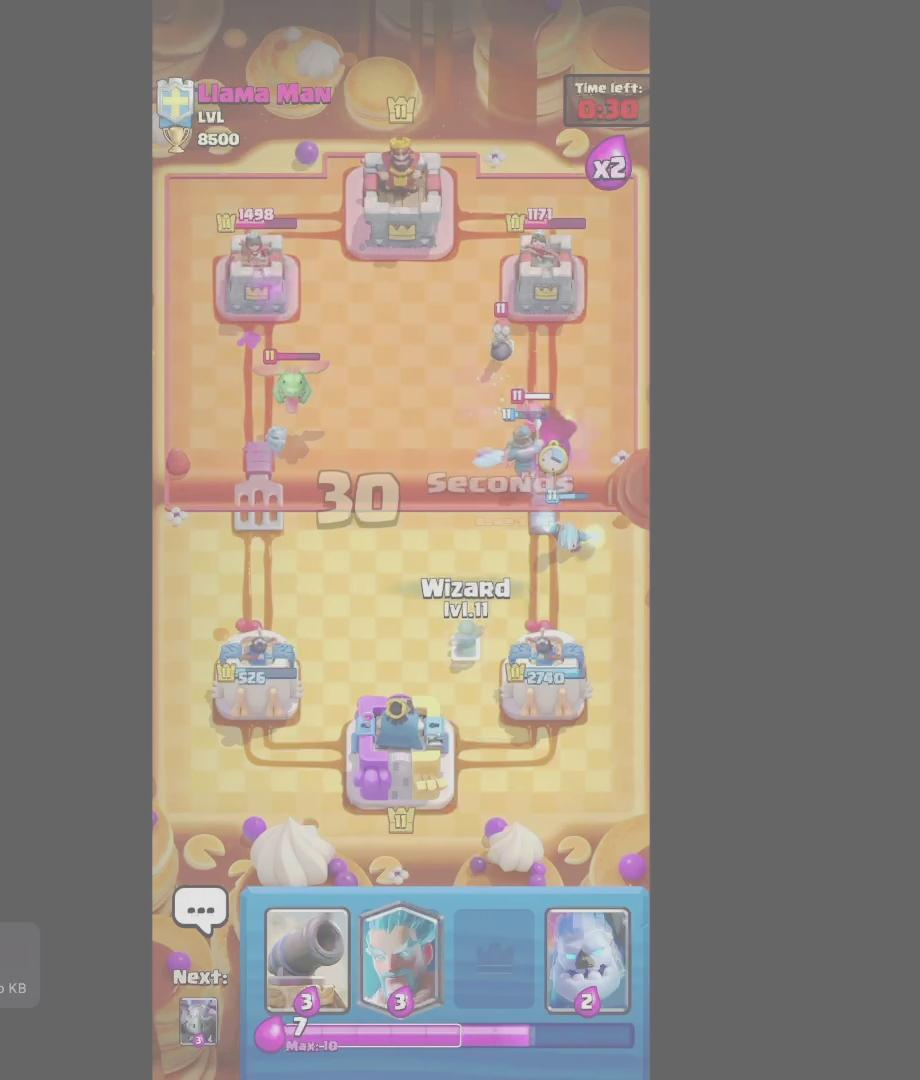Baby Dragon: (252, 345, 333, 413)
Bomber: (482, 299, 520, 363)
Mini Pekka: (509, 388, 557, 435)
